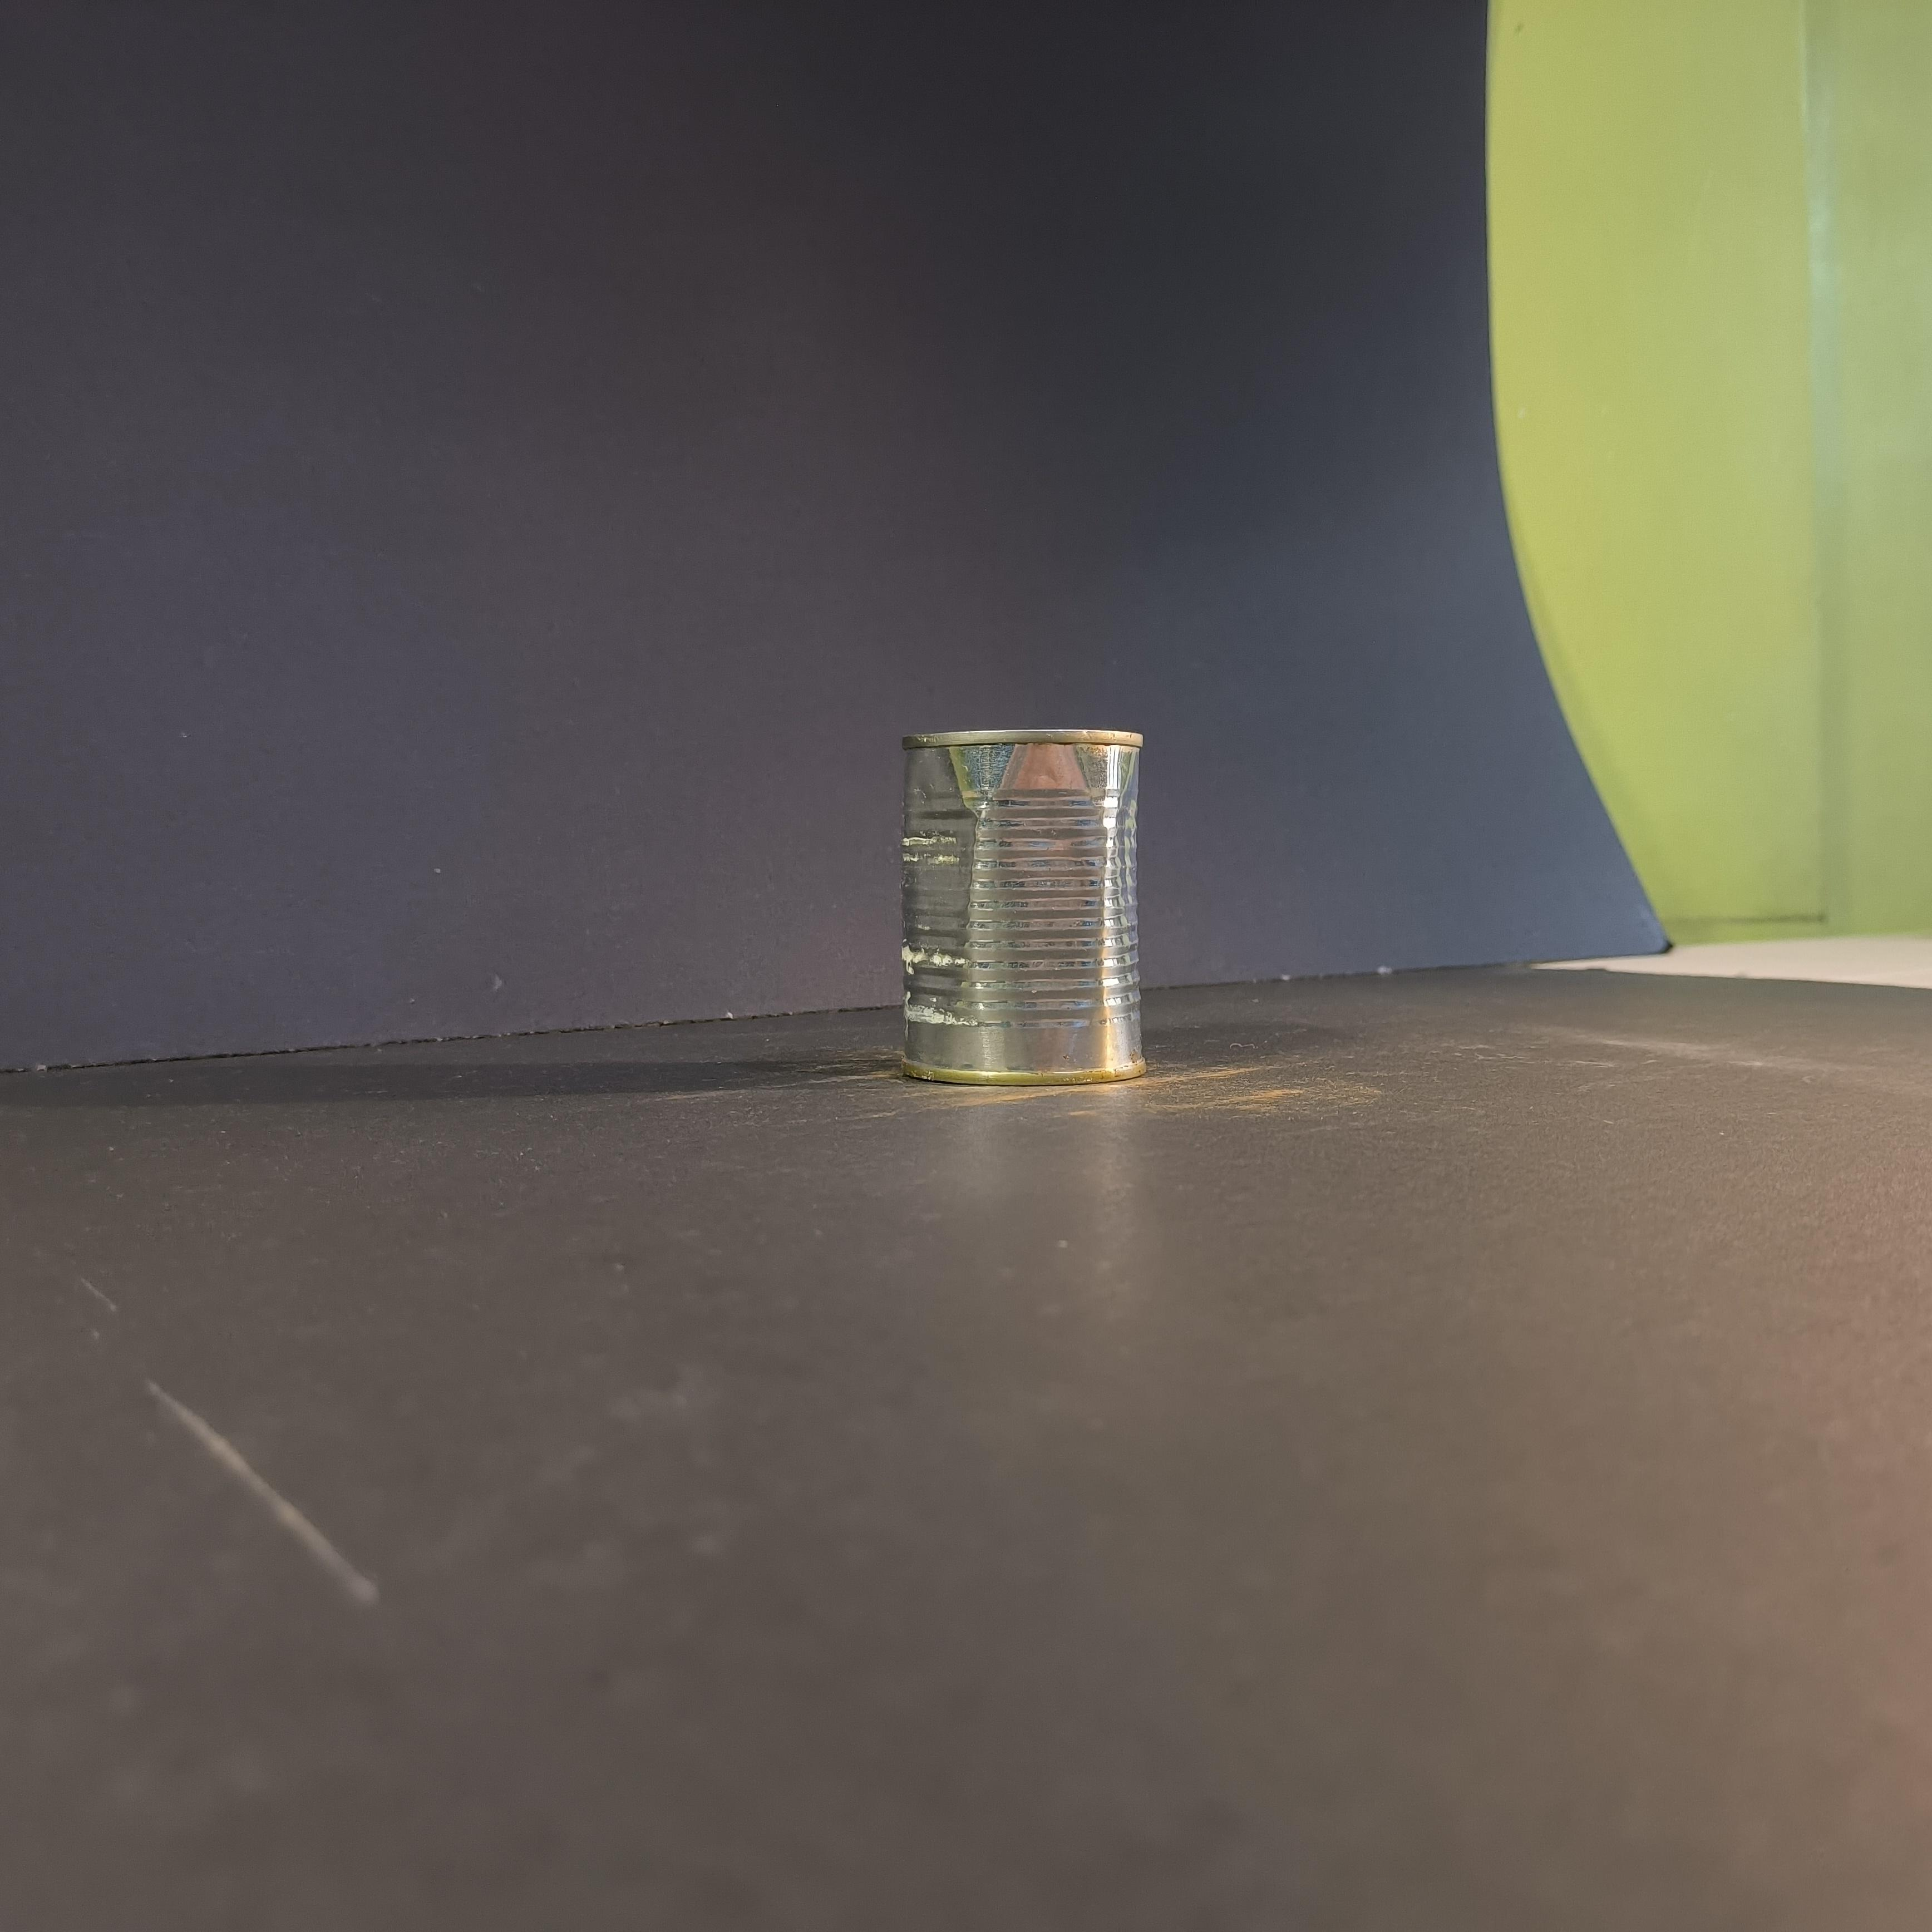Dented: (869, 706, 1177, 1118)
